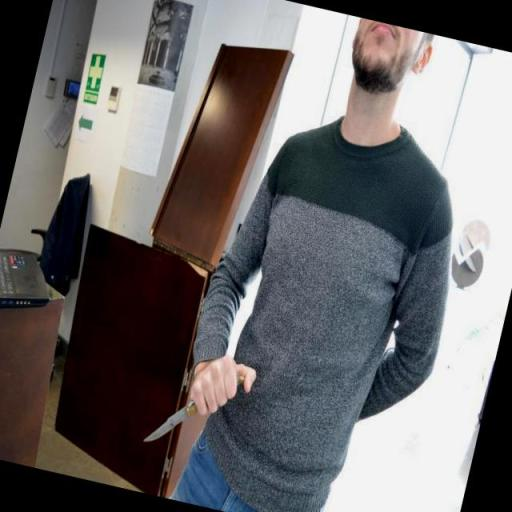knife: (138, 351, 248, 467)
